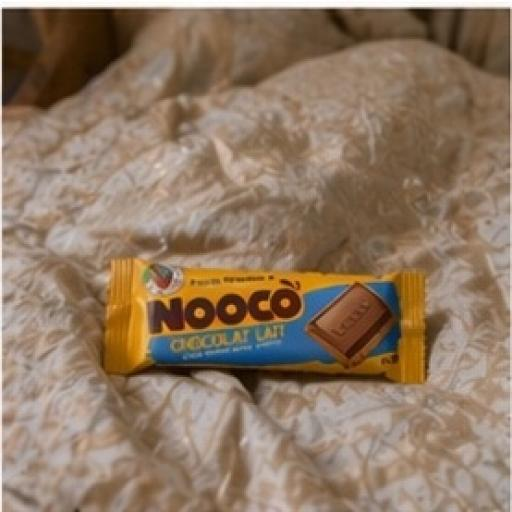biscuit-detection: (95, 225, 458, 423)
